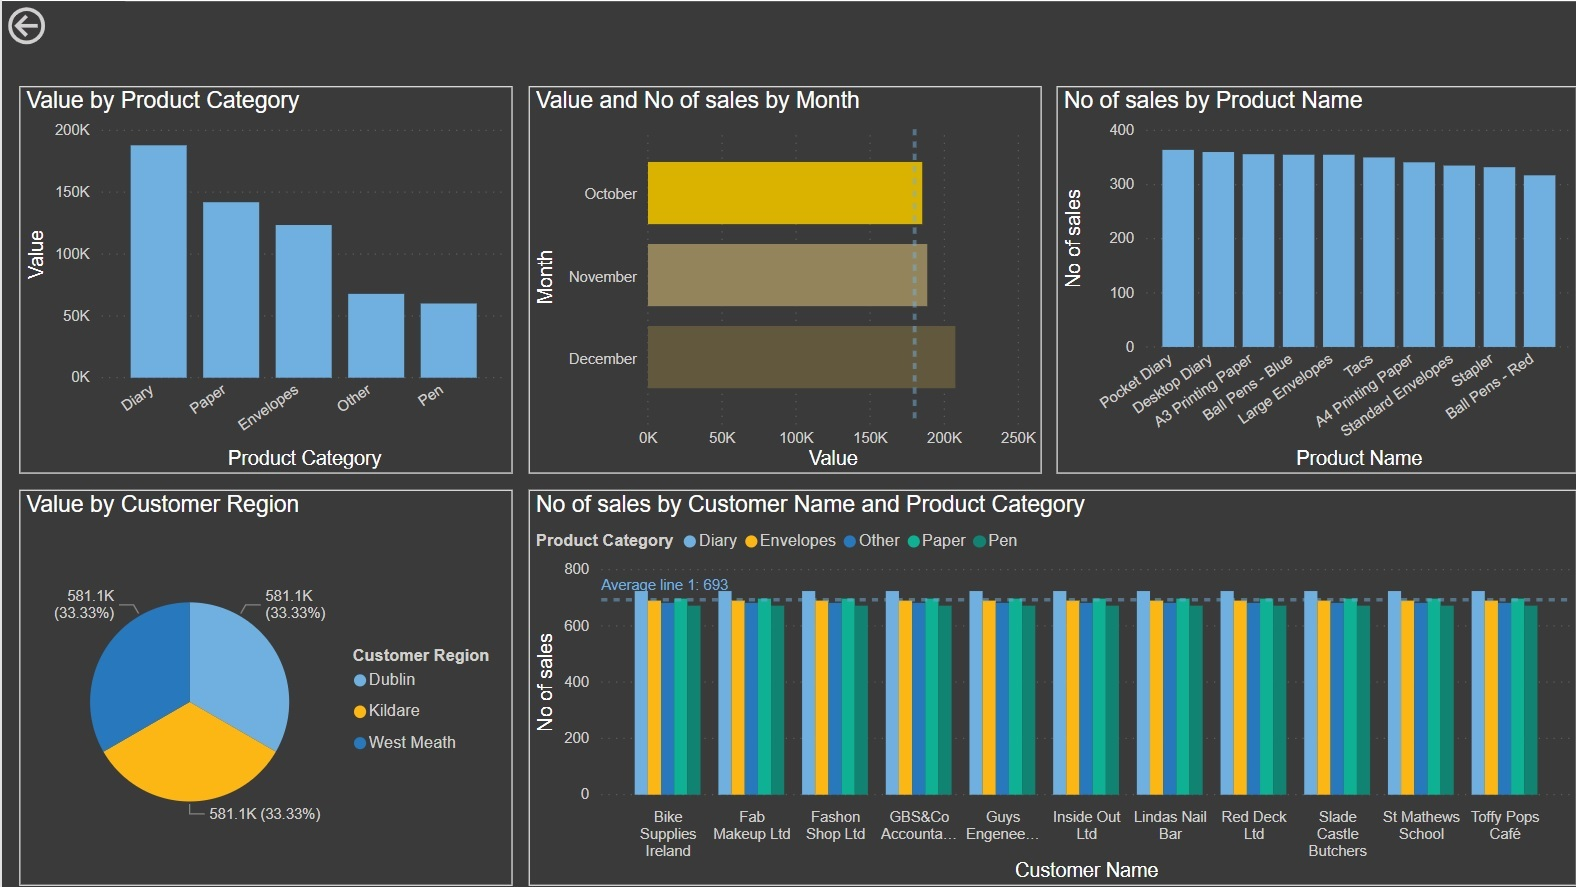

This screenshot's page, from the dashboard's own definition file:
{"tool":"powerbi","page":{"name":"Page 1","canvas":[1280,720],"ordinal":0},"visuals":[{"type":"columnChart","fields":{"Y":["sales (2).Value"],"Category":["Product.Product Category"]},"box":[14,69,401,315],"z":0},{"type":"pieChart","fields":{"Y":["sales (2).Value"],"Category":["Customer ID.Customer Region"]},"box":[14,397,401,322],"z":1000},{"type":"clusteredBarChart","fields":{"Y":["sales (2).Value"],"Category":["sales (2).Date.Variation.Date Hierarchy.Month","sales (2).Date.Variation.Date Hierarchy.Day"]},"box":[428,69,417,315],"z":2000},{"type":"clusteredColumnChart","fields":{"Y":["sales.No of sales"],"Category":["Customer ID.Customer Name"],"Series":["Product.Product Category"]},"box":[428,397,852,322],"z":3000},{"type":"clusteredColumnChart","fields":{"Y":["sales.No of sales"],"Category":["Product.Product Name"]},"box":[857,69,423,315],"z":4000},{"type":"actionButton","box":[0,0,100,40],"z":4001}]}

Visuals, with their boxes in screenshot pixels (x1, y1, x2, y2), scaled from the page's 1280x720 canvas onto the 1576x887 screenshot:
columnChart - sales (2).Value x Product.Product Category: 17/85/511/473
pieChart - sales (2).Value x Customer ID.Customer Region: 17/489/511/886
clusteredBarChart - sales (2).Value x sales (2).Date.Variation.Date Hierarchy.Month: 527/85/1040/473
clusteredColumnChart - sales.No of sales x Customer ID.Customer Name: 527/489/1575/886
clusteredColumnChart - sales.No of sales x Product.Product Name: 1055/85/1575/473
actionButton: 0/0/123/49
